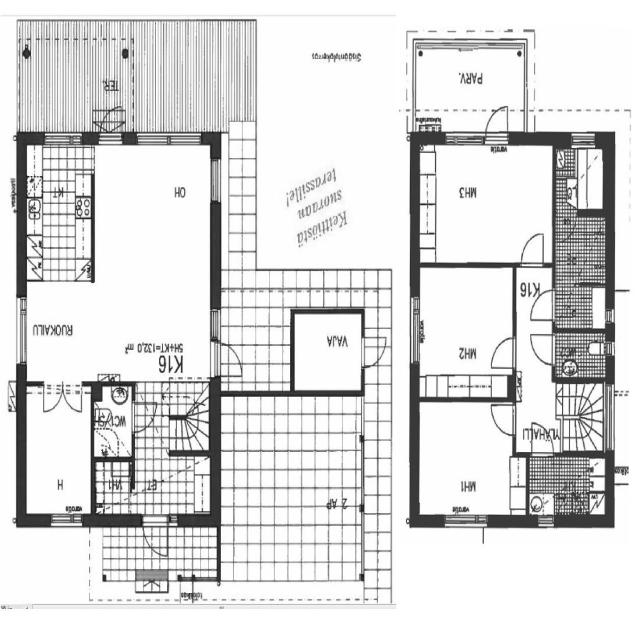door: (554, 208, 602, 261), (486, 329, 518, 377), (211, 338, 245, 382), (486, 398, 520, 441), (355, 330, 389, 373), (523, 416, 558, 457), (517, 228, 549, 269), (141, 512, 170, 556), (528, 286, 558, 324), (97, 108, 127, 146), (529, 329, 558, 368), (484, 105, 511, 140), (130, 402, 156, 436), (554, 206, 579, 238), (62, 381, 84, 414), (43, 382, 62, 413), (603, 307, 617, 326)
window: (404, 288, 426, 374), (130, 128, 208, 151), (438, 509, 497, 536), (601, 380, 618, 454), (14, 292, 29, 370), (439, 128, 487, 150), (207, 156, 224, 208), (47, 511, 88, 532), (40, 130, 84, 147), (567, 130, 597, 149), (208, 305, 222, 345), (534, 515, 558, 531), (103, 572, 132, 584), (604, 338, 618, 362), (604, 306, 618, 326)
zone: (42, 141, 212, 391), (416, 138, 555, 266), (413, 262, 517, 400), (415, 398, 521, 519), (24, 139, 91, 278), (24, 391, 92, 518), (291, 311, 365, 393), (524, 456, 608, 518), (554, 214, 610, 289), (553, 143, 604, 214), (92, 383, 134, 458), (553, 328, 613, 378)
